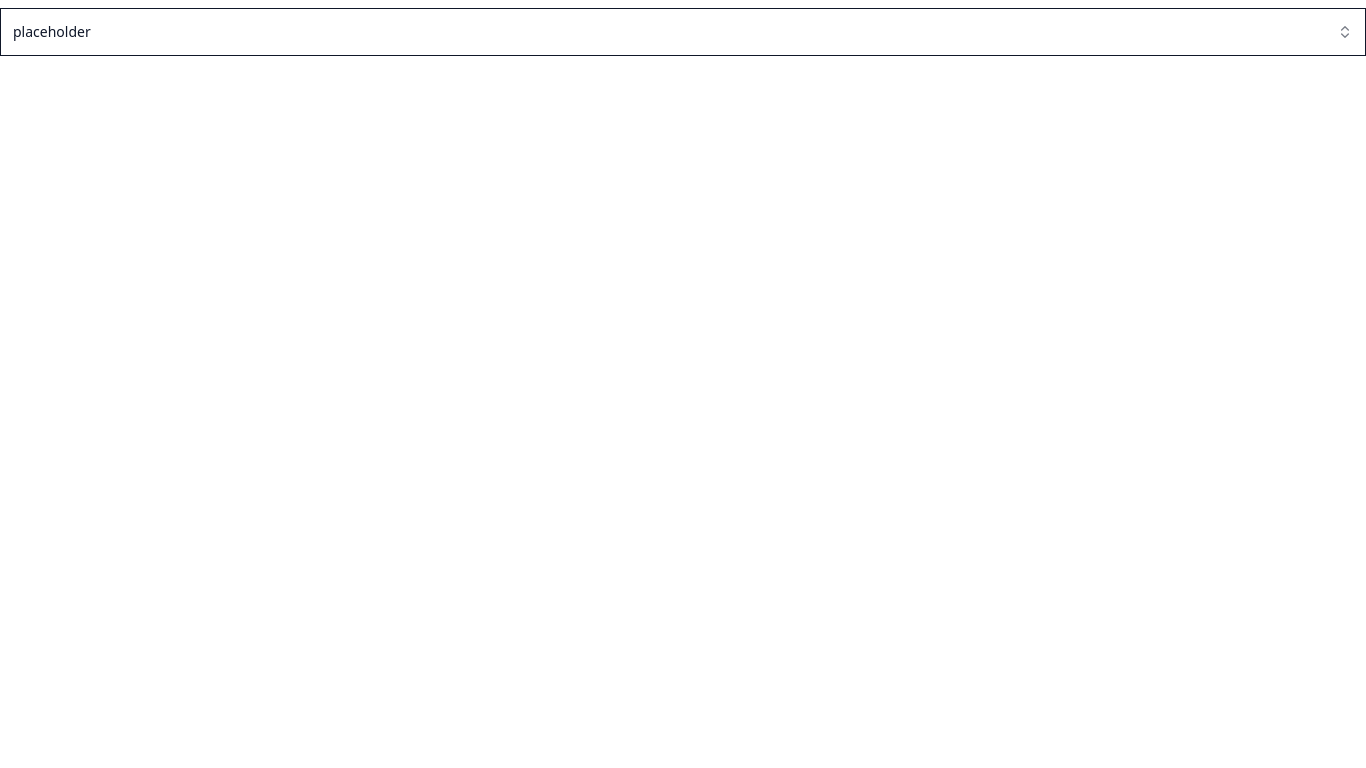
Test case: ProblemSearchCombobox › selects a structured problem option and closes the menu
The width and height of the screenshot is (1366, 768).
Click the dropdown. click: coordinates (52, 31)
box: [0, 8, 1365, 56]
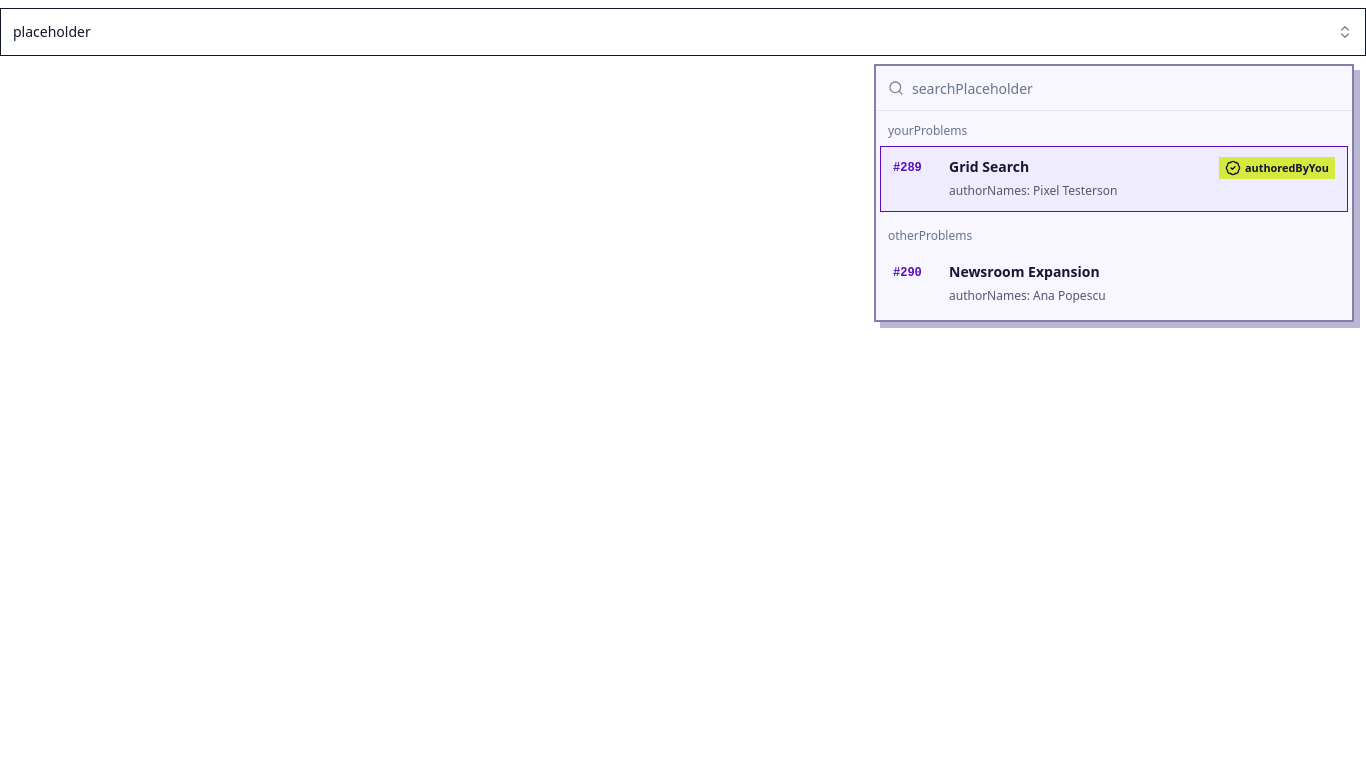
Click the text "Grid Search". click: coordinates (989, 167)
box: [949, 157, 1029, 176]
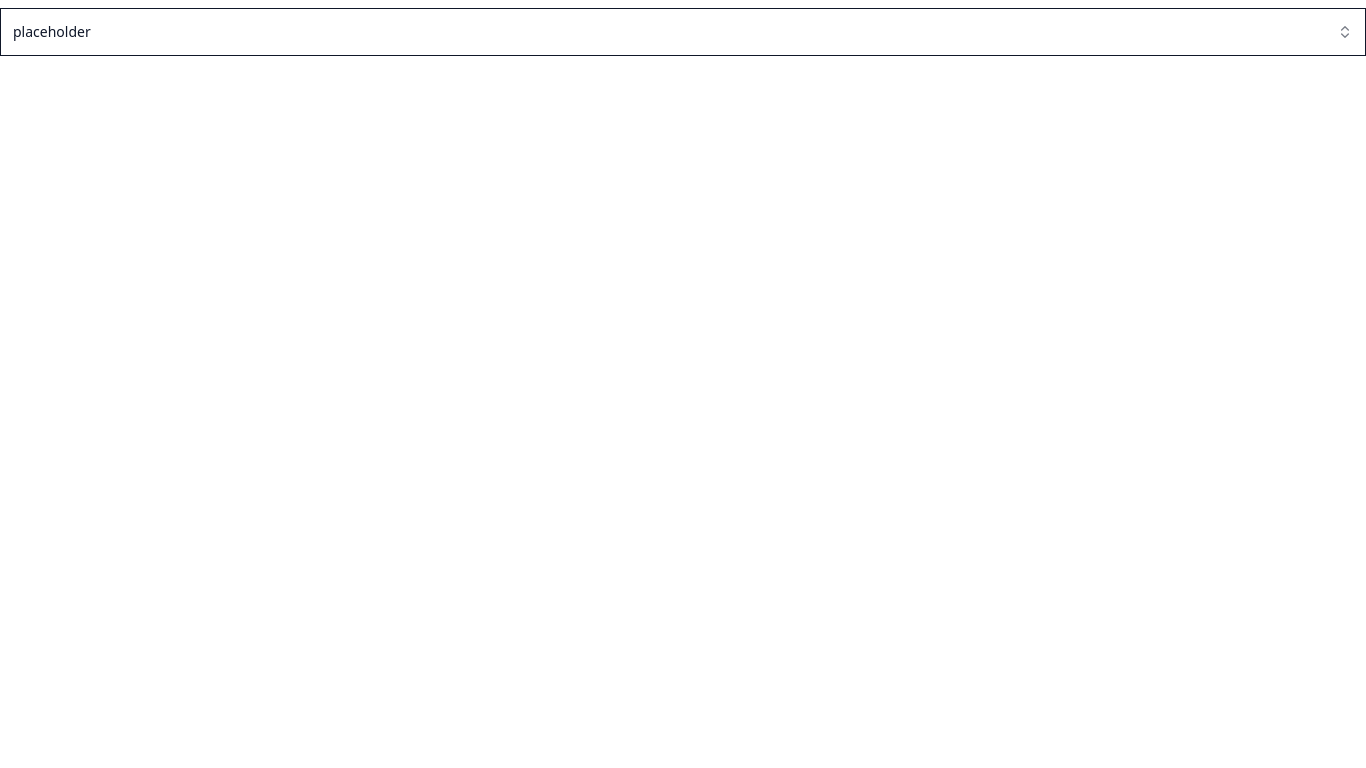
Expected: the text "yourProblems" is gone
